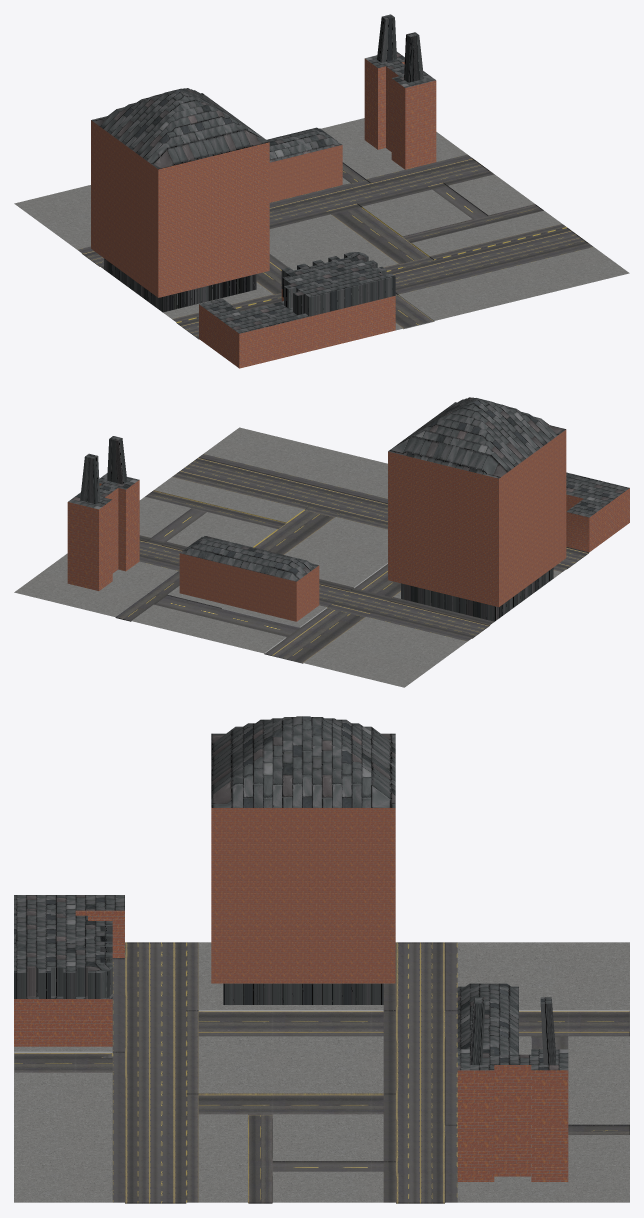
The model's file is city.fbx.
3 renders of one model, top to bottom at view 1: azimuth 30°, elevation 25°; view 2: azimuth 150°, elevation 25°; view 3: azimuth 270°, elevation 25°, orthographic. The views are drawn at different scales.
Parts seen in each view (by area): view 1: city; view 2: city; view 3: city.
Boxes of the visible parts, x1,y1,x2,y2 form: city: (14,14,629,368); city: (14,397,629,687); city: (14,716,629,1203).
Size of the model in its own units: 9541 by 4322 by 9332.
Materials: 5 (4 with a texture image).
